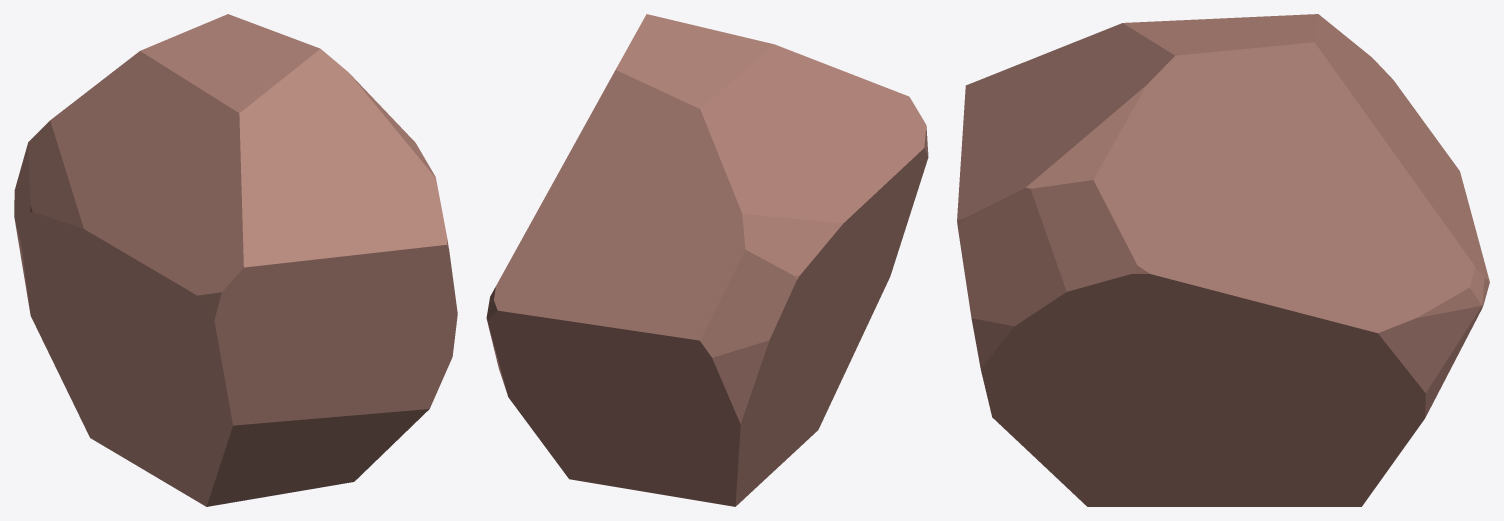
File: Mesa_Rock_Mid_02.fbx
3 renders of one model, left to right at view 1: azimuth 30°, elevation 25°; view 2: azimuth 150°, elevation 25°; view 3: azimuth 270°, elevation 25°, orthographic. The views are drawn at different scales.
Visible parts, largest first — view 1: Icosphere.004; view 2: Icosphere.004; view 3: Icosphere.004.
Boxes of the visible parts, box(x1,y1,x2,y2) form: Icosphere.004: box(14, 14, 457, 506); Icosphere.004: box(486, 14, 928, 506); Icosphere.004: box(957, 14, 1489, 506).
Bounding box in the file's own units: 88.75 × 114 × 121.
